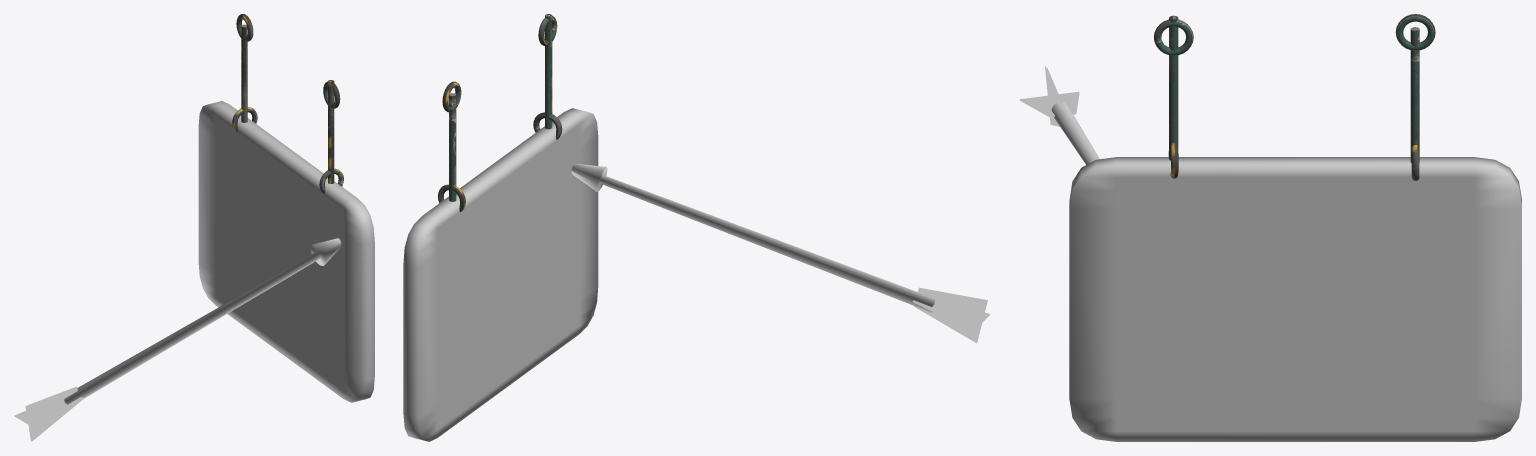
The model's file is SM_Sign_01.fbx.
3 views of the same model, side by side, from view 1: azimuth 30°, elevation 25°; view 2: azimuth 150°, elevation 25°; view 3: azimuth 270°, elevation 25° (orthographic). The views are drawn at different scales.
Visible parts, largest first — view 1: SM_Sign_01_LOD0; view 2: SM_Sign_01_LOD0; view 3: SM_Sign_01_LOD0.
Boxes of the visible parts, x1=… form: SM_Sign_01_LOD0: x1=14, y1=14, x2=374, y2=441; SM_Sign_01_LOD0: x1=403, y1=14, x2=990, y2=441; SM_Sign_01_LOD0: x1=1019, y1=14, x2=1521, y2=441.
Size of the model in its own units: 164 by 141 by 131.
